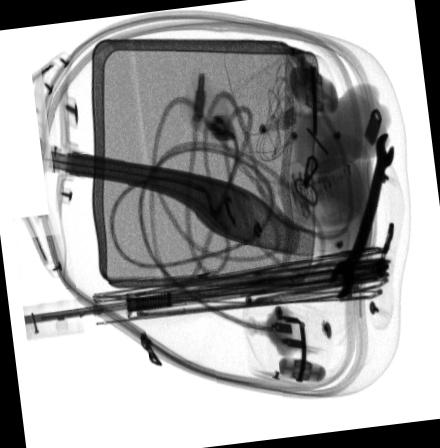Wrench: (328, 132, 394, 298)
